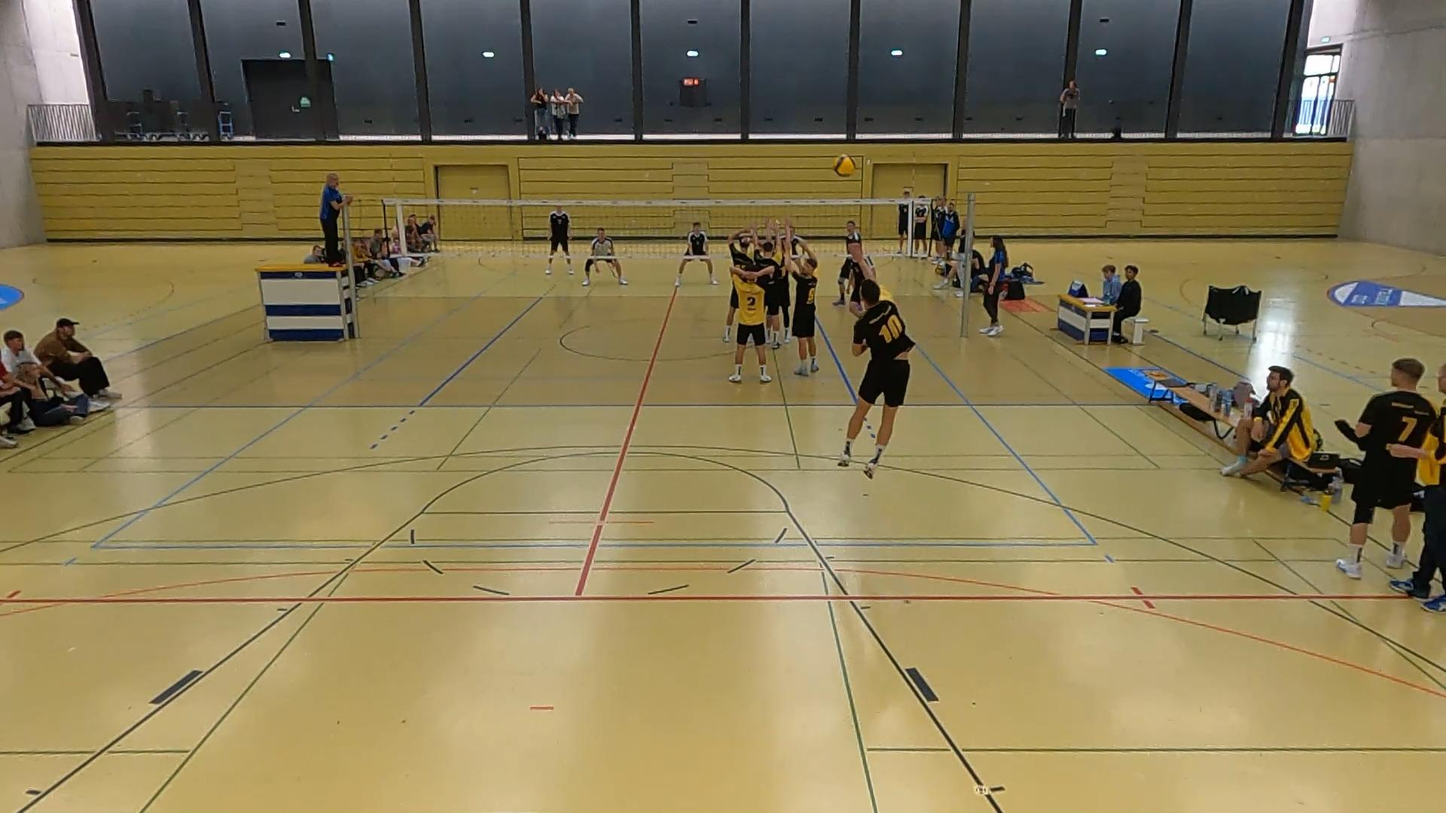Player: (728, 263, 773, 382), (754, 224, 788, 349), (789, 240, 818, 376), (675, 222, 716, 286), (833, 221, 863, 305), (583, 228, 627, 285), (846, 237, 877, 316), (545, 204, 573, 274), (723, 288, 738, 343)
Serve: (828, 238, 920, 484)
ball: (832, 152, 854, 177)
